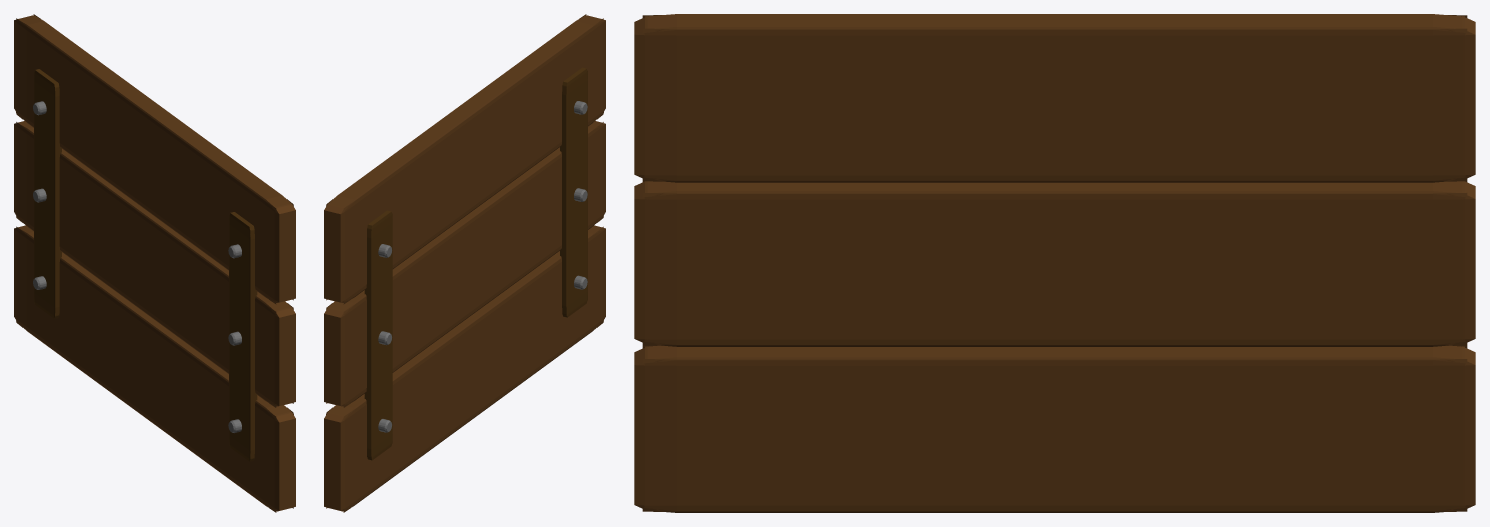
Rendered from sign.fbx.
3 views of the same model, side by side, from view 1: azimuth 30°, elevation 25°; view 2: azimuth 150°, elevation 25°; view 3: azimuth 270°, elevation 25° (orthographic). The views are drawn at different scales.
Visible parts, largest first — view 1: Cube, Cube.005, Cylinder, Cylinder.001; view 2: Cube, Cube.005, Cylinder, Cylinder.001; view 3: Cube.
Part boxes in pixels (x1=…): Cube: x1=14, y1=14, x2=295, y2=512; Cube.005: x1=34, y1=69, x2=257, y2=461; Cylinder: x1=33, y1=101, x2=46, y2=289; Cylinder.001: x1=228, y1=244, x2=241, y2=432; Cube: x1=324, y1=14, x2=605, y2=512; Cube.005: x1=364, y1=67, x2=587, y2=460; Cylinder: x1=378, y1=244, x2=391, y2=432; Cylinder.001: x1=574, y1=101, x2=587, y2=289; Cube: x1=634, y1=14, x2=1475, y2=512.
Bounding box in the file's own units: 2.56 × 23.99 × 37.62.
